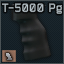Orsis T-5000M pistol grip: (0, 0, 64, 64)
